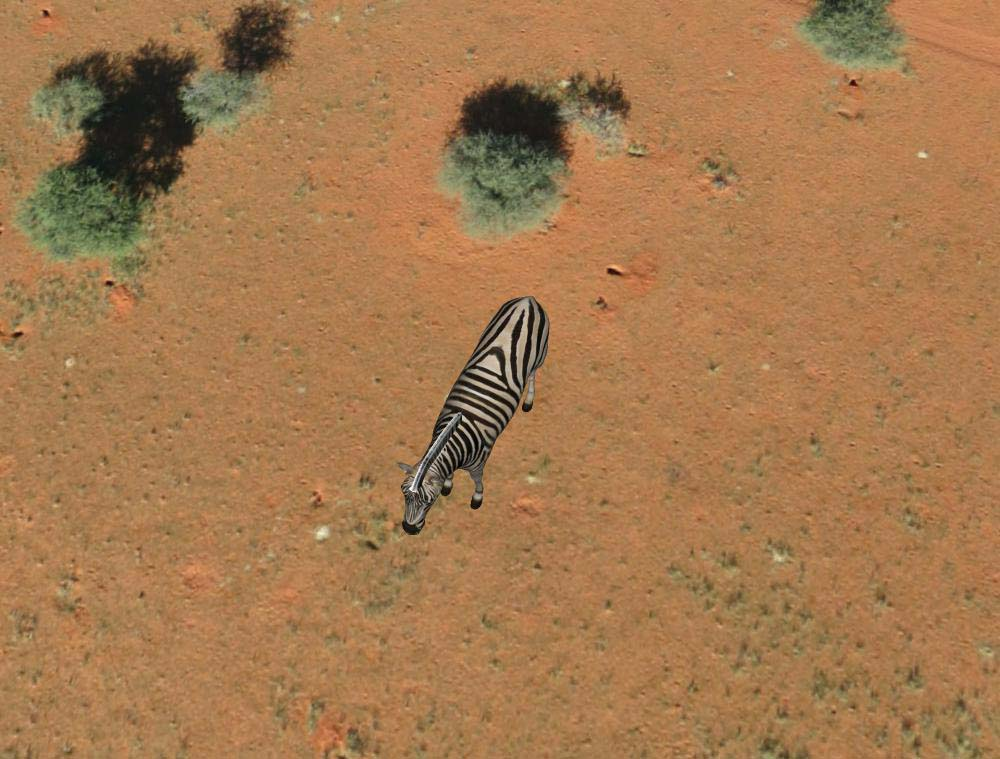zebra: (398, 292, 550, 537)
